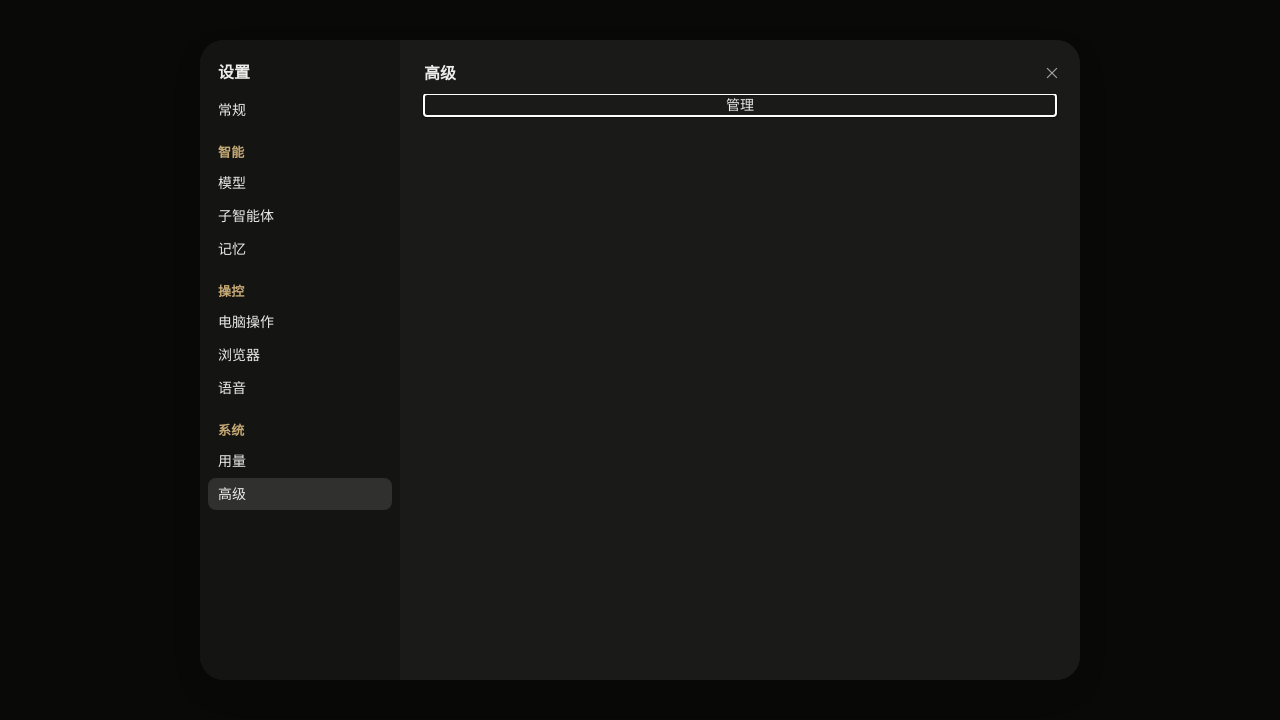
Test: SettingsModal › opens a sub page with the section name as a way back
The width and height of the screenshot is (1280, 720).
Click the button with test id "pet-open". click: {"x": 740, "y": 105}
box: x1=424 y1=94 x2=1056 y2=116
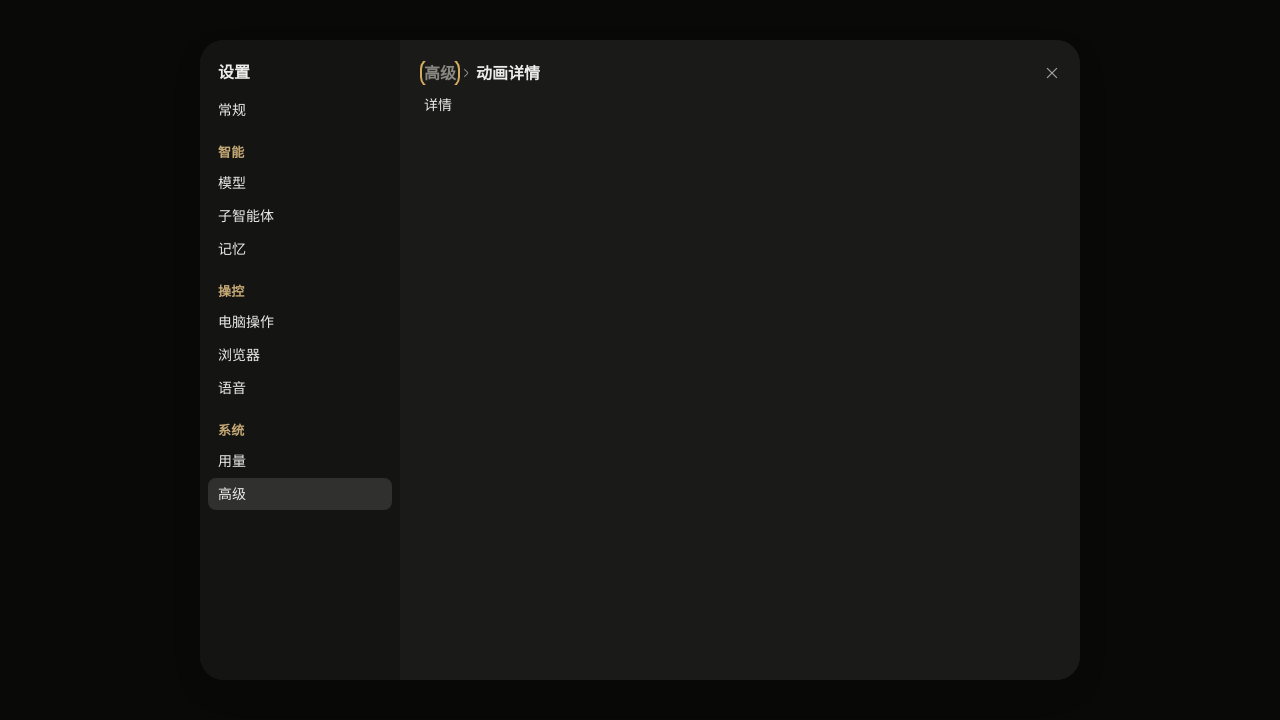
Now the text with test id "settings-page-title" reads "动画详情", box x1=476 y1=63 x2=540 y2=83
Click the button with test id "settings-crumb". click: {"x": 440, "y": 73}
box: x1=424 y1=61 x2=456 y2=85
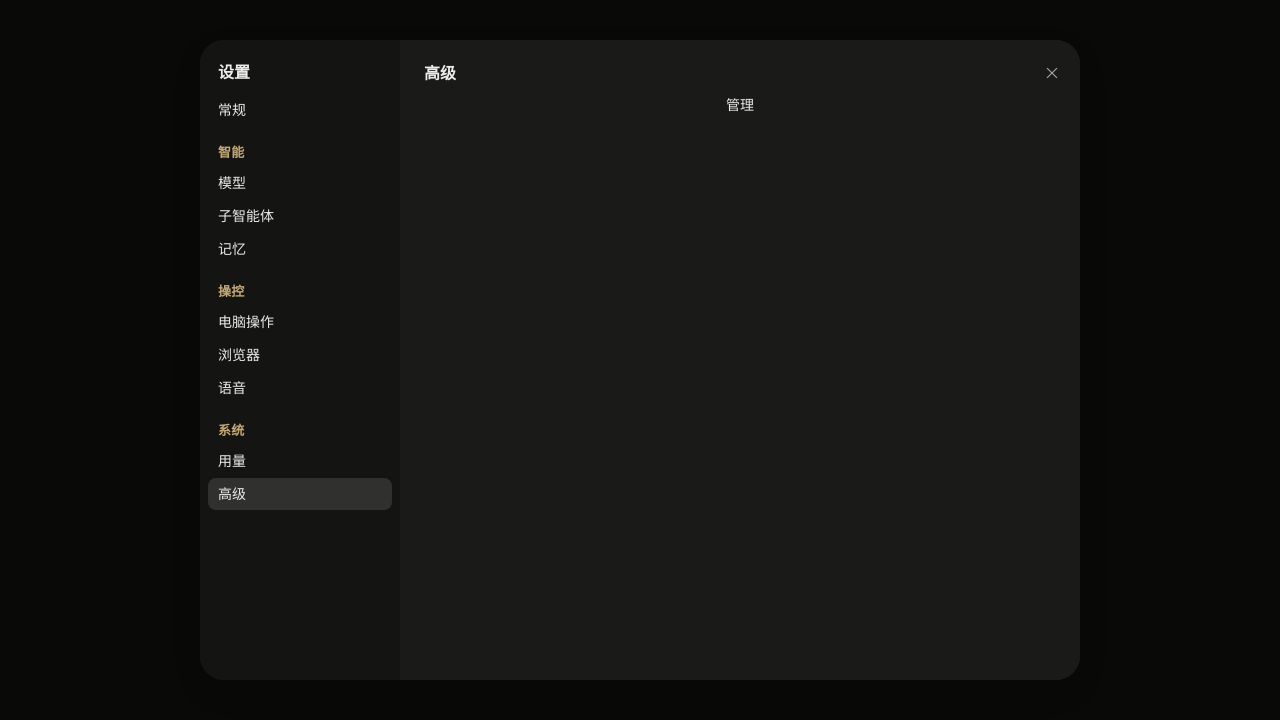
Now the button with test id "settings-crumb" is gone
Now the heading with class "section-title" reads "高级", box x1=424 y1=63 x2=456 y2=83
